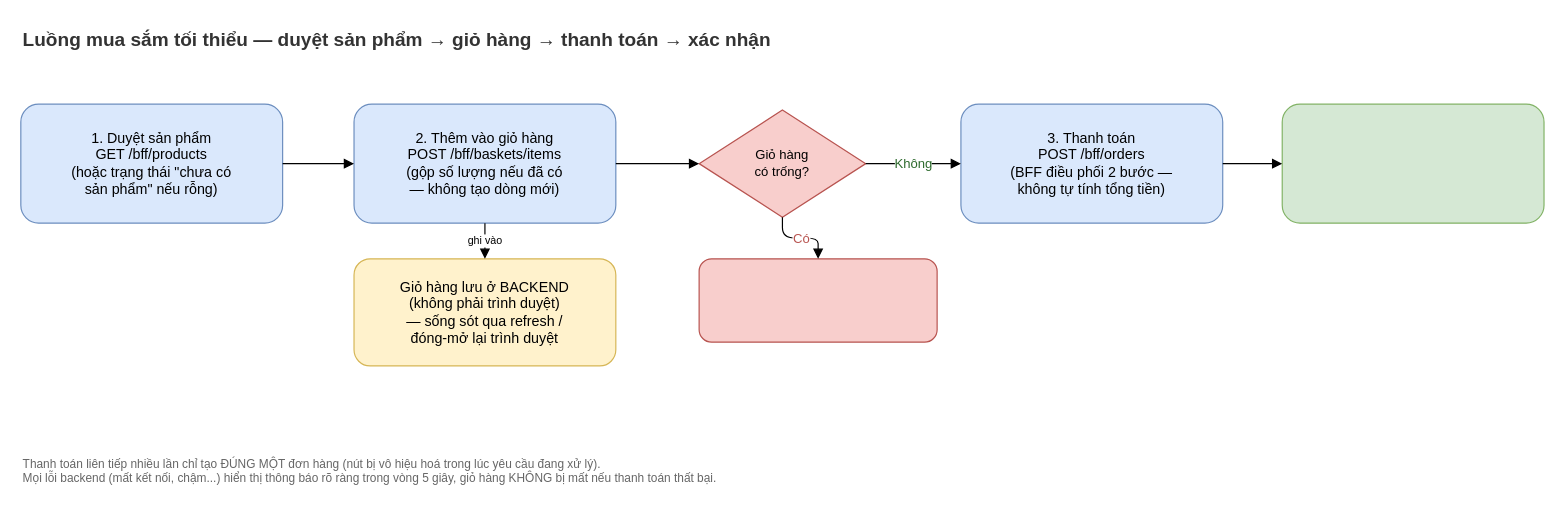
Some shapes in this 1565 by 516 pixel diagram are drawn without their labels. Each missing label, with the centre of its shape:
4. Màn hình xác nhận — mã đơn hàng + tổng tiền — giỏ hàng trở về trống: the point at 1412,163
Chặn NGAY tại giao diện — không gửi request nào: the point at 817,300
